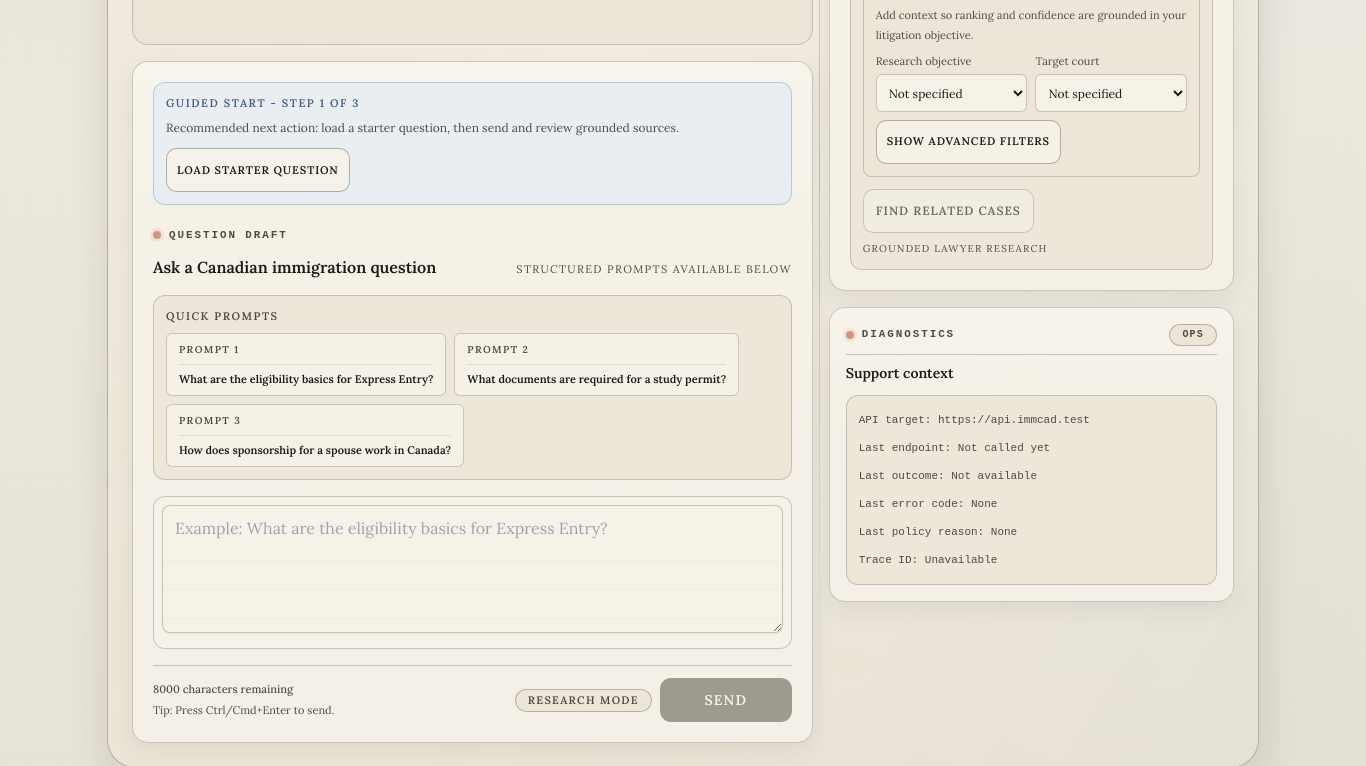
chat shell contract behavior › hydrates case-law panel from chat auto research preview before manual search
(page scrolled)
Type "Need precedent on inadmissibility findings in Federal Court" into the text box labelled "Ask a Canadian immigration question".
click(472, 569); type("Need precedent on inadmissibility findings in Federal Court")  # box top-left (162, 505), bottom-right (783, 633)
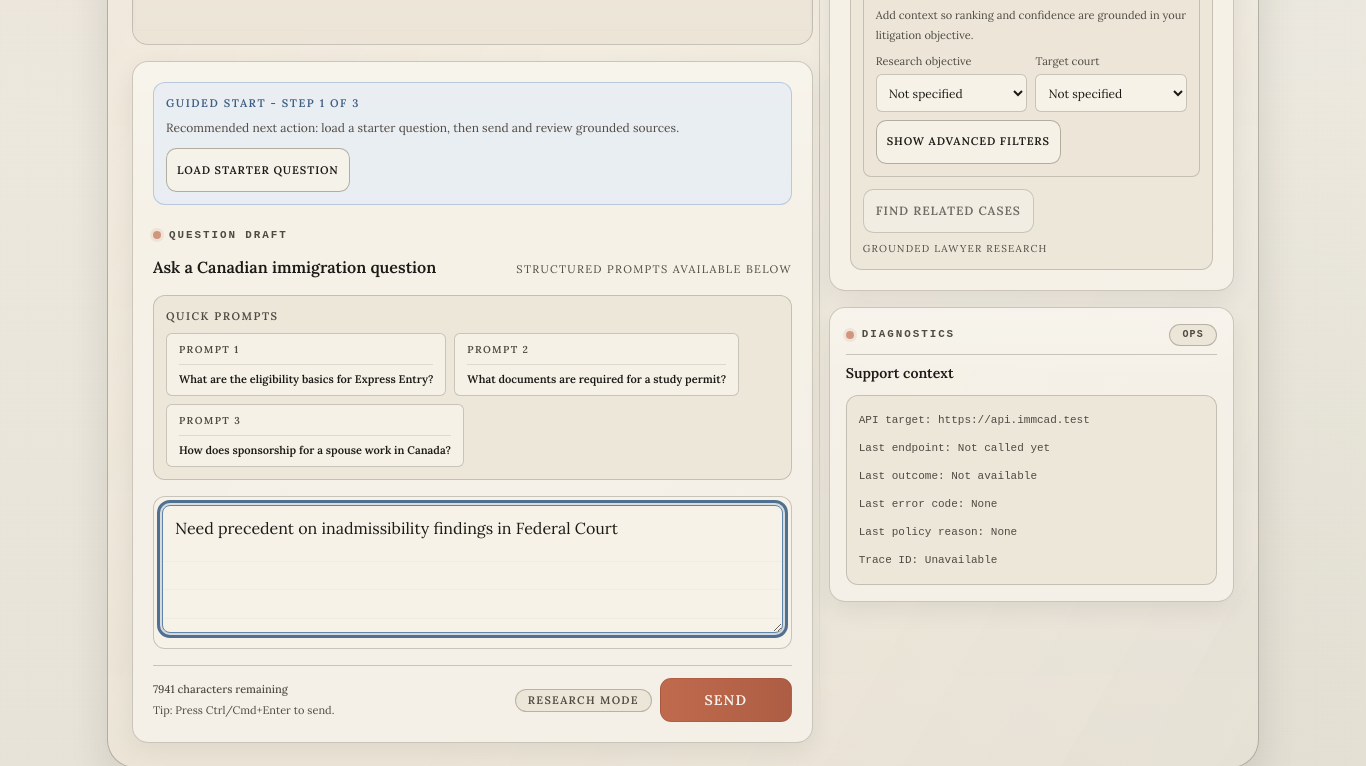
Click the button "Send".
click(726, 700)  # box top-left (660, 678), bottom-right (792, 722)
(page scrolled)
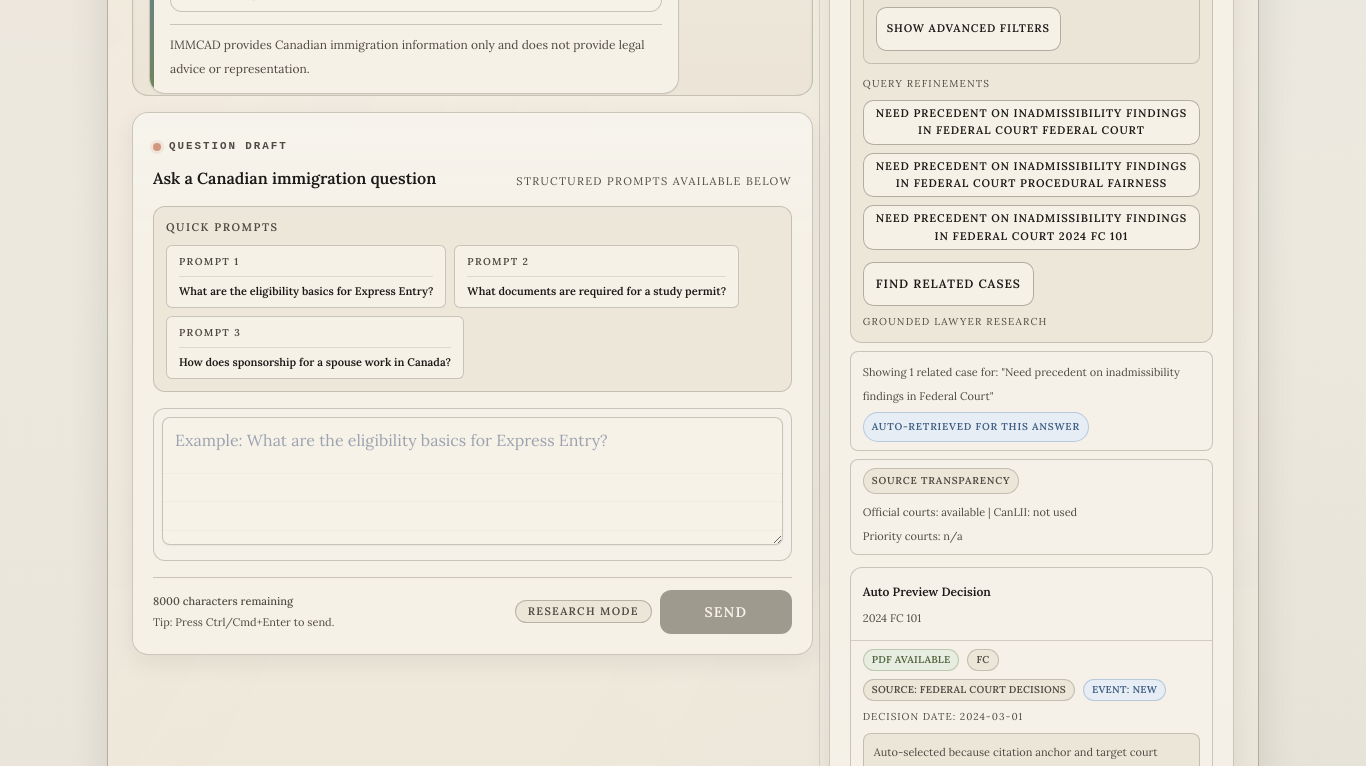
Expected: the link "Auto Preview Decision" is shown, top-left (863, 584), bottom-right (991, 599)
Expected: the text "Auto-retrieved for this answer" is shown, top-left (863, 412), bottom-right (1089, 442)
Expected: the text "Official courts: available | CanLII: not used" is shown, top-left (863, 505), bottom-right (1077, 519)
